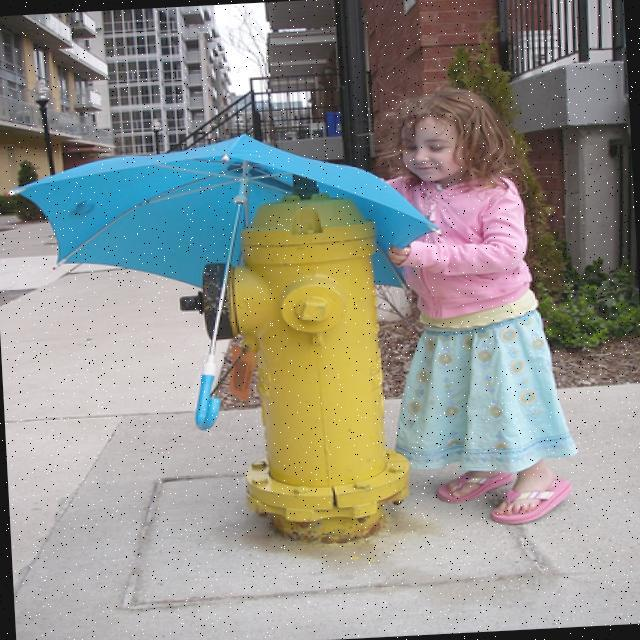fire_hydrant: (218, 174, 411, 549)
